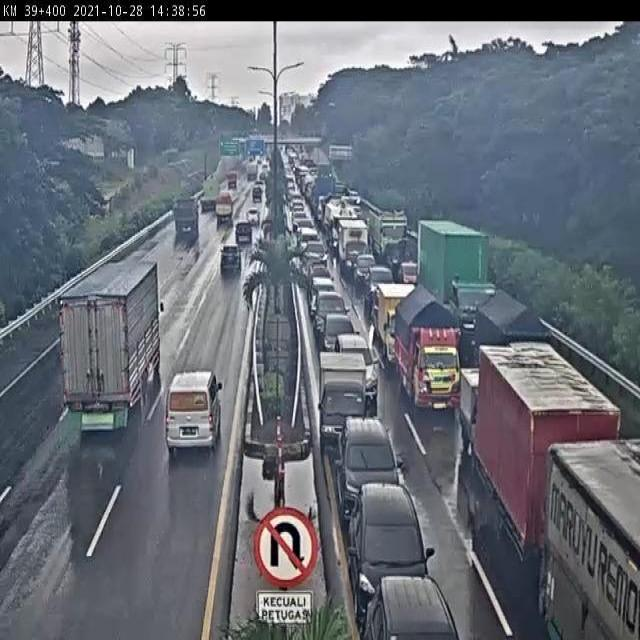big truck: (479, 345, 626, 595), (60, 261, 165, 436), (417, 220, 491, 341), (198, 177, 221, 215)
car: (349, 486, 436, 618), (335, 418, 399, 530), (363, 577, 460, 640), (163, 369, 224, 452), (335, 336, 380, 403), (319, 315, 360, 369), (312, 290, 350, 342), (367, 265, 395, 308), (309, 276, 334, 316), (300, 252, 323, 295), (297, 226, 319, 262), (219, 242, 243, 274), (355, 255, 376, 288), (234, 219, 253, 245), (244, 208, 260, 228)
small truck: (475, 290, 554, 414), (393, 287, 462, 416), (458, 365, 521, 468), (317, 348, 369, 449), (377, 283, 420, 369), (339, 220, 369, 276), (173, 197, 200, 235), (212, 192, 235, 228), (225, 173, 238, 192), (250, 191, 261, 205)
